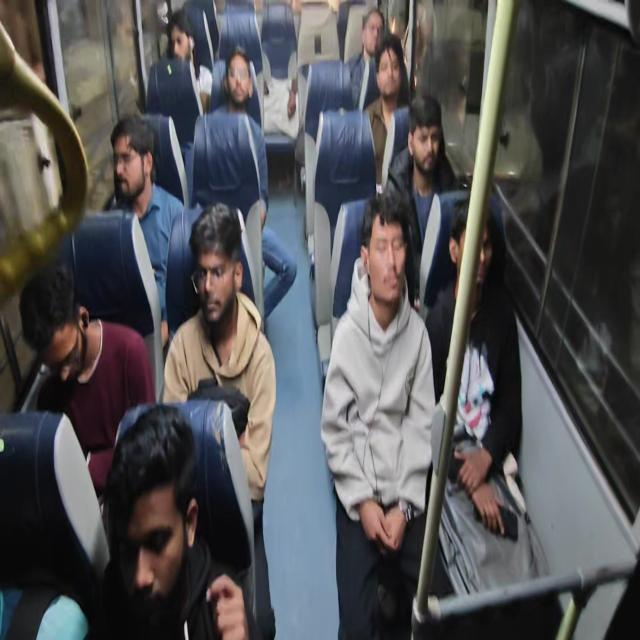person: (104, 403, 204, 612), (18, 253, 99, 399), (192, 200, 247, 351), (358, 187, 407, 312), (107, 110, 162, 208), (443, 186, 488, 302), (404, 92, 450, 183), (378, 36, 412, 120), (221, 40, 253, 116), (167, 8, 199, 75), (359, 2, 387, 56)
